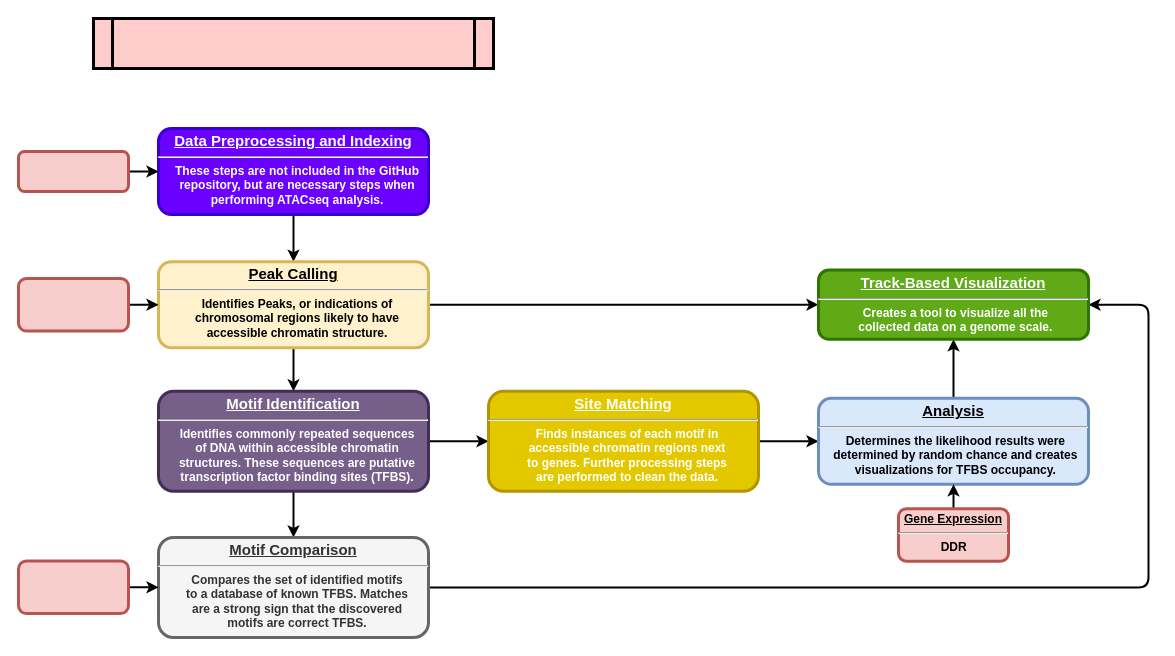
This 1175x656 diagram has some shape labels left out. Each missing label, with the centre of its shape:
ATAC-Seq Workflow: point (293, 43)
JASPAR Transfac JASPAR: point (73, 586)
Raw FASTQ Reads: point (73, 171)
UCSC Main Galaxy: point (73, 304)
